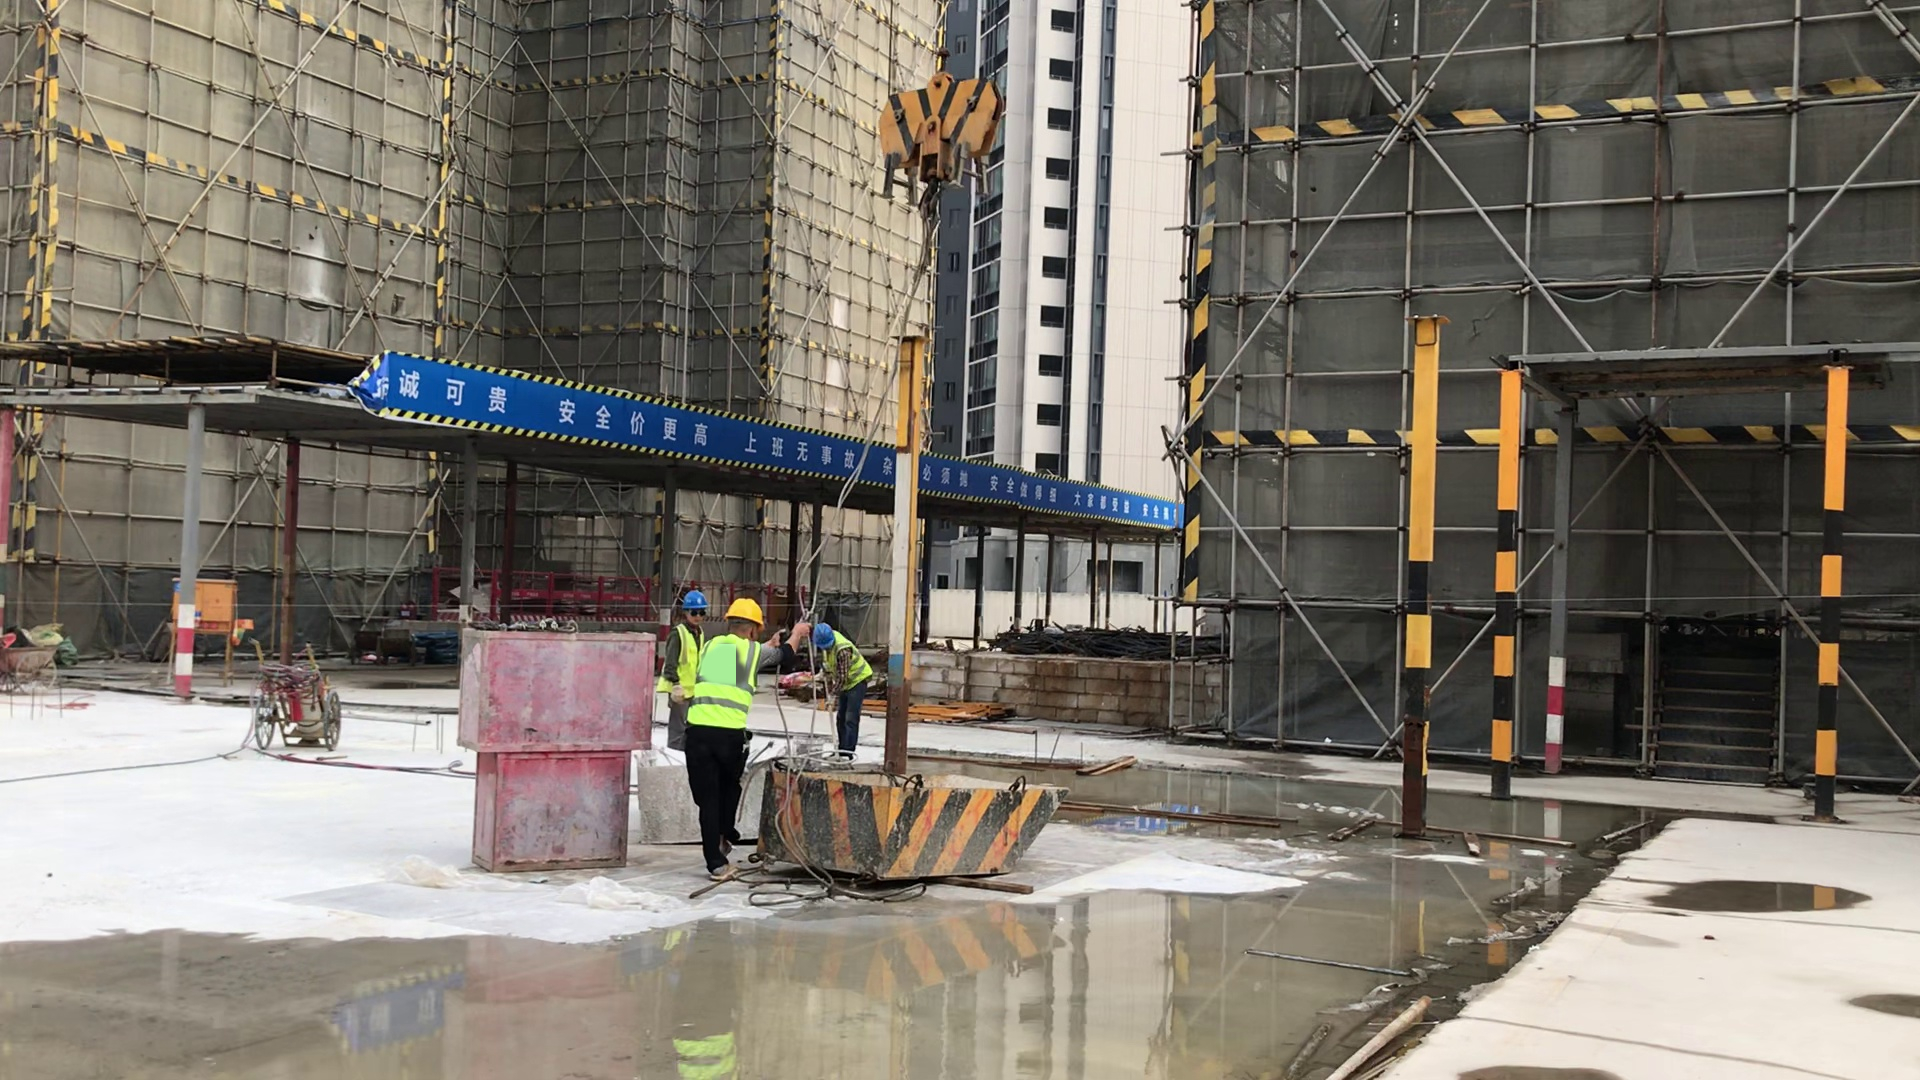brick: (907, 645, 1214, 724)
ebox: (168, 569, 240, 638)
fence: (430, 562, 802, 624)
handcart: (1, 638, 73, 696)
helmet: (721, 598, 770, 626), (803, 623, 838, 650), (675, 589, 713, 608)
hook: (870, 74, 1007, 198)
hopper: (782, 761, 1059, 892)
person: (675, 587, 780, 883), (800, 612, 886, 757), (649, 588, 714, 750)
slogan: (326, 346, 1181, 533)
vest: (685, 634, 769, 735), (821, 628, 876, 698), (654, 628, 706, 700)
